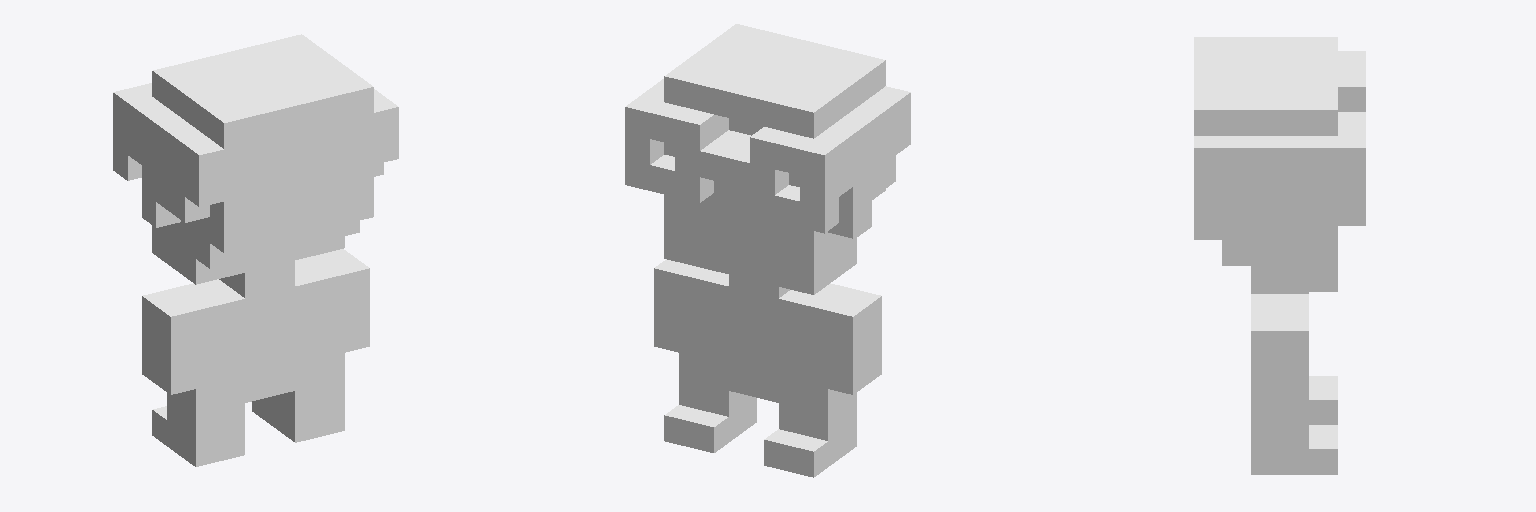
Rendered from nemzinhodeoculos.obj.
3 views of the same model, side by side, from view 1: azimuth 30°, elevation 25°; view 2: azimuth 150°, elevation 25°; view 3: azimuth 270°, elevation 25° (orthographic).
Visible parts, largest first — view 1: object 1; view 2: object 1; view 3: object 1.
Part boxes in pixels (x1,y1,x2,y2): object 1: (113, 34, 398, 466); object 1: (625, 24, 910, 477); object 1: (1194, 37, 1365, 474).
Bounding box in the file's own units: 0.8 × 1.4 × 0.6.